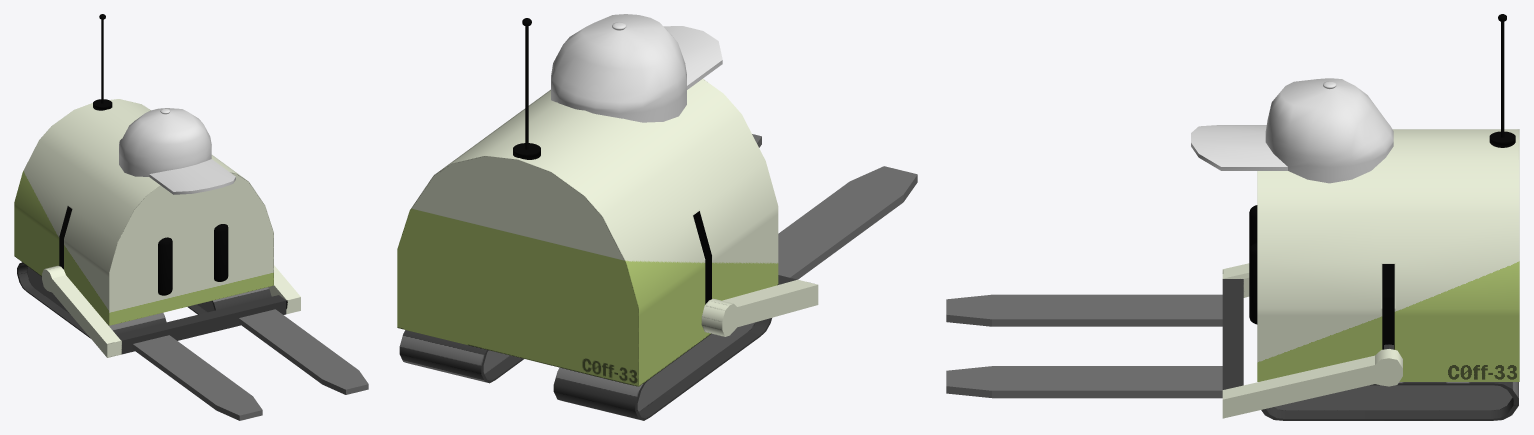
Rendered from CoffeeBotConcept.fbx.
3 views of the same model, side by side, from view 1: azimuth 30°, elevation 25°; view 2: azimuth 150°, elevation 25°; view 3: azimuth 270°, elevation 25° (orthographic). The views are drawn at different scales.
Visible parts, largest first — view 1: Body, Arms, Hat, TrackR, TrackL, EyeR, EyeL, Antena; view 2: Body, Hat, Arms, TrackR, TrackL, Antena; view 3: Body, Arms, Hat, TrackL, Antena, EyeL.
Boxes of the visible parts, box(x1,y1,x2,y2) form: Body: box(14, 99, 273, 325); Arms: box(42, 265, 368, 420); Hat: box(119, 108, 235, 194); TrackR: box(17, 262, 166, 338); TrackL: box(187, 287, 271, 314); EyeR: box(158, 237, 172, 295); EyeL: box(214, 224, 228, 281); Antena: box(93, 14, 112, 110); Body: box(397, 79, 778, 386); Hat: box(551, 14, 722, 122); Arms: box(701, 134, 917, 336); TrackR: box(553, 318, 771, 420); TrackL: box(399, 330, 523, 383); Antena: box(513, 18, 540, 159); Body: box(1257, 129, 1519, 381); Arms: box(946, 263, 1402, 418); Hat: box(1191, 78, 1393, 183); TrackL: box(1261, 382, 1518, 420); Antena: box(1489, 14, 1515, 147); EyeL: box(1249, 242, 1257, 324).
Size of the model in its own units: 0.5885 by 0.7408 by 1.09.
Materials: 7 (7 with a texture image).
